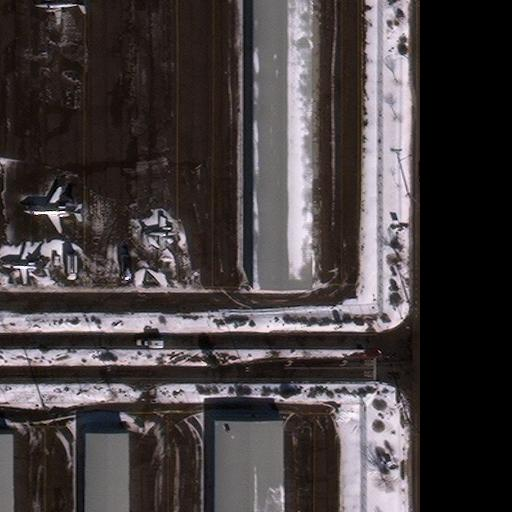Medium Civil Transport: (23, 185, 82, 233)
Small Civil Transport: (1, 241, 48, 284), (35, 0, 85, 24), (142, 217, 177, 249)
